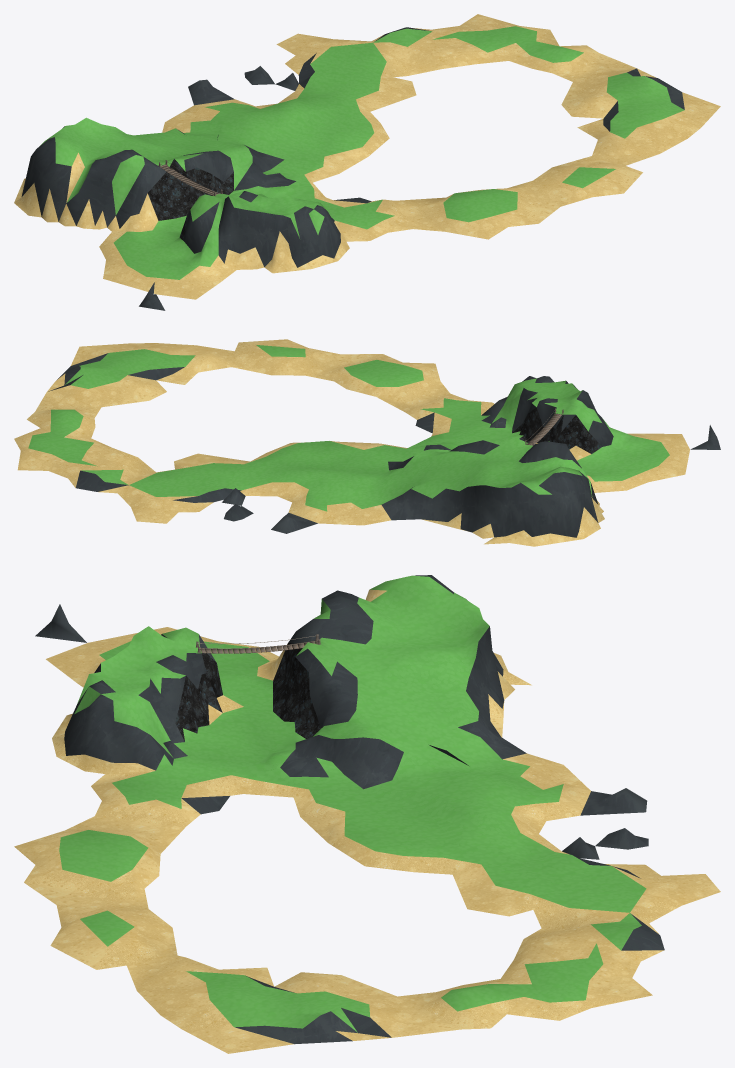
Rendered from Fixed Island Full 1.fbx.
The picture shows the model from 3 angles, top to bottom: view 1: azimuth 30°, elevation 25°; view 2: azimuth 150°, elevation 25°; view 3: azimuth 270°, elevation 25°; orthographic projection. The views are drawn at different scales.
Visible parts, largest first — view 1: Map Rework; view 2: Map Rework; view 3: Map Rework.
Part boxes in pixels (bbox=[...]): Map Rework: bbox=[14, 14, 720, 310]; Map Rework: bbox=[14, 339, 720, 546]; Map Rework: bbox=[14, 575, 720, 1053].
Size of the model in its own units: 3404 by 333 by 2376.
5 materials, 5 textured.
